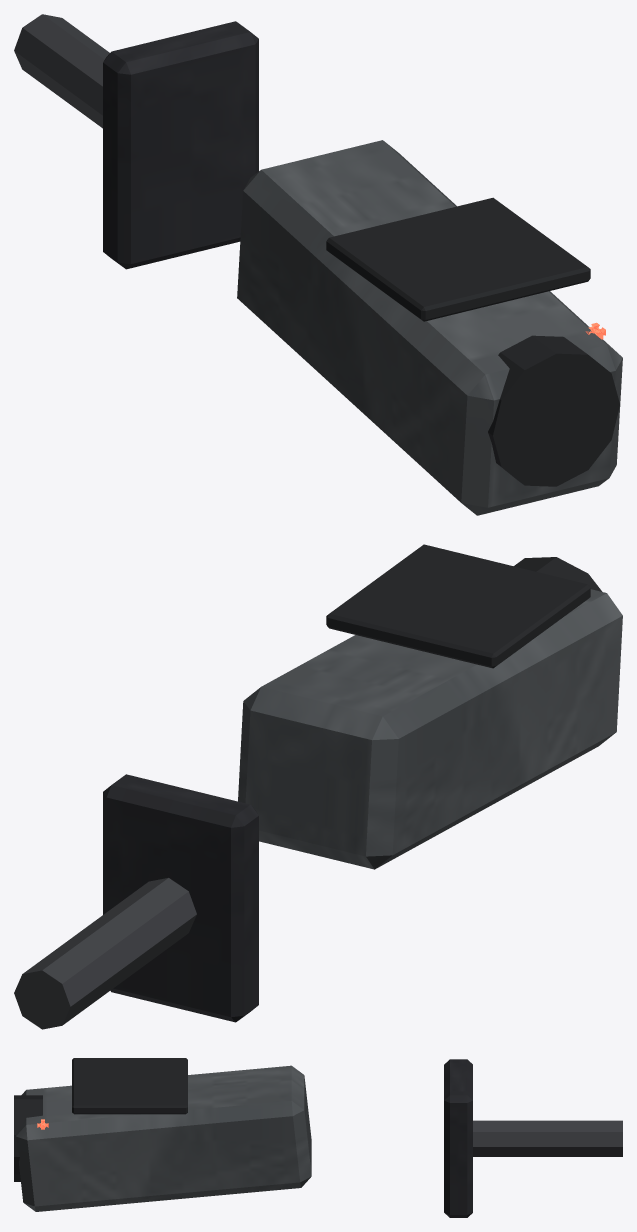
The model's file is cctv_camera.glb.
3 views of the same model, one above another, from view 1: azimuth 30°, elevation 25°; view 2: azimuth 150°, elevation 25°; view 3: azimuth 270°, elevation 25° (orthographic). The views are drawn at different scales.
Parts seen in each view (by area): view 1: body; view 2: body; view 3: body.
Boxes of the visible parts, left/top/right/bottom form: body: left=14, top=14, right=622, bottom=515; body: left=14, top=544, right=622, bottom=1029; body: left=14, top=1058, right=622, bottom=1217.
Bounding box in the file's own units: 0.12 × 0.14 × 0.63.
Materials: 5 (3 with a texture image).
